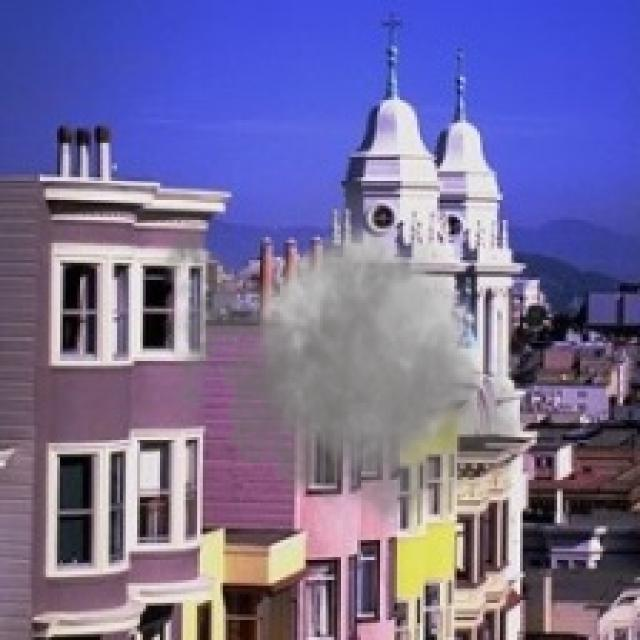smoke: (152, 160, 537, 546)
